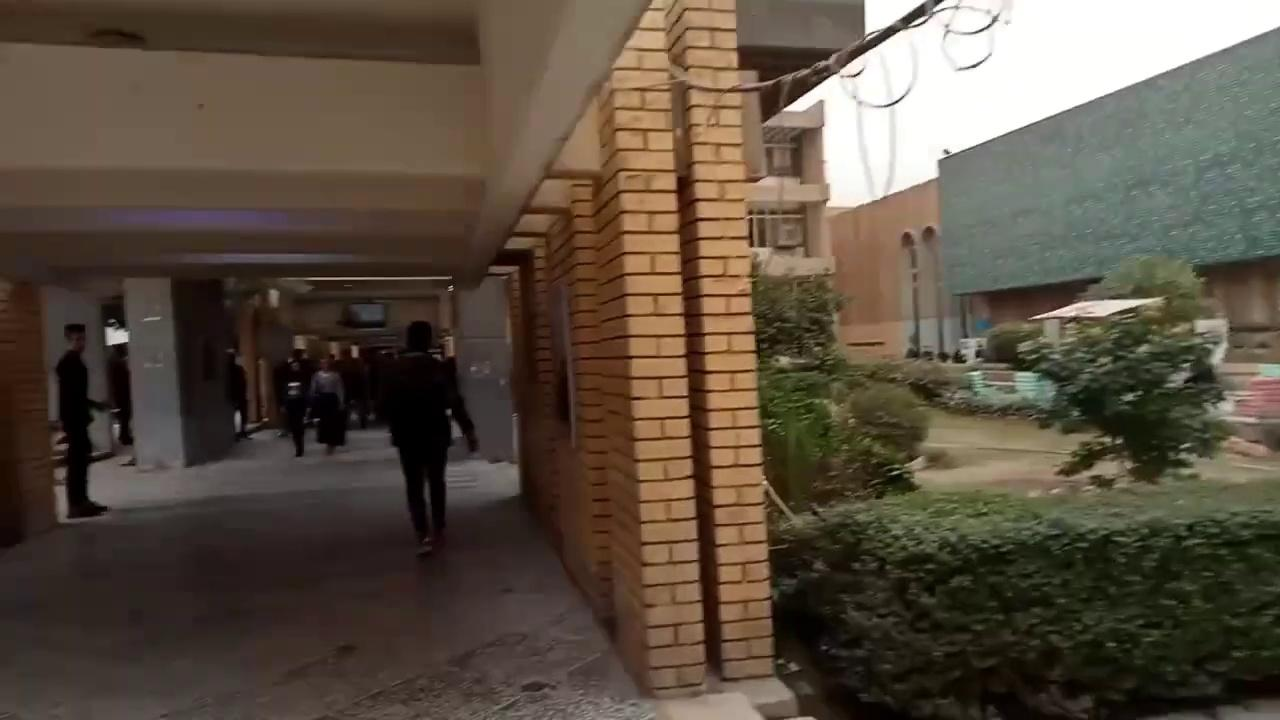person: (378, 319, 479, 557), (54, 322, 110, 518), (106, 341, 133, 446), (227, 352, 250, 441)
tree: (769, 483, 1278, 718), (1012, 253, 1234, 485), (749, 257, 932, 511), (675, 0, 1013, 126), (749, 259, 853, 386), (840, 371, 932, 496), (1087, 251, 1209, 331)
